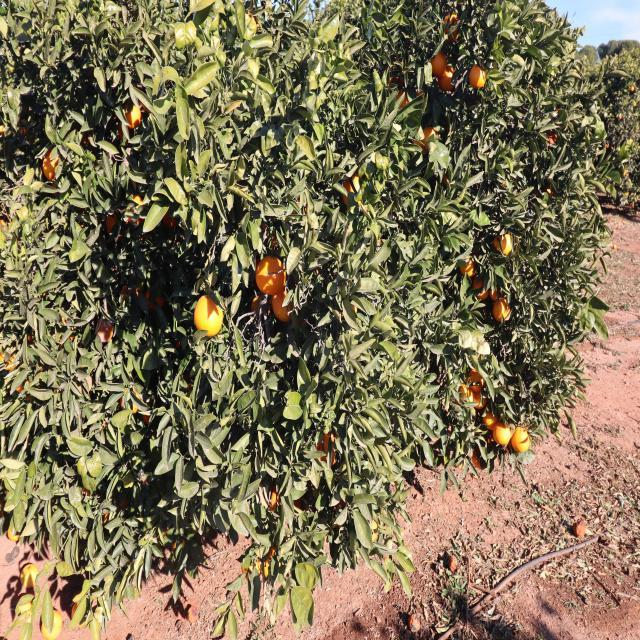Jeruk Sudah Matang: (193, 288, 230, 343), (308, 421, 342, 469), (256, 249, 290, 296), (40, 145, 73, 189), (272, 282, 304, 324), (256, 544, 290, 582), (338, 167, 366, 209), (77, 474, 109, 510), (259, 211, 287, 251), (59, 309, 82, 357), (248, 290, 274, 328), (342, 292, 368, 328), (94, 308, 119, 343), (124, 99, 145, 139), (126, 192, 147, 232), (443, 8, 464, 44), (468, 441, 490, 473), (100, 202, 120, 236), (8, 520, 30, 550), (238, 546, 258, 578), (266, 485, 289, 511), (457, 249, 478, 277), (515, 422, 531, 458), (470, 62, 488, 94), (465, 366, 490, 389), (12, 373, 34, 399), (163, 199, 180, 232), (390, 62, 410, 90), (470, 274, 490, 302), (494, 416, 512, 446), (440, 65, 458, 95), (493, 232, 513, 258), (427, 52, 448, 76), (364, 512, 380, 542), (0, 346, 19, 371), (454, 379, 472, 405), (394, 88, 412, 114), (424, 124, 442, 148), (469, 383, 484, 411), (493, 300, 512, 322), (408, 124, 424, 150), (479, 405, 496, 428), (155, 290, 169, 316), (416, 85, 431, 109), (490, 278, 504, 302), (120, 279, 132, 305), (28, 328, 42, 350), (144, 286, 156, 308), (136, 277, 147, 300), (546, 128, 558, 149), (511, 233, 523, 253), (556, 103, 566, 119), (617, 109, 625, 123), (622, 166, 630, 178), (630, 84, 636, 94), (634, 97, 638, 108)
